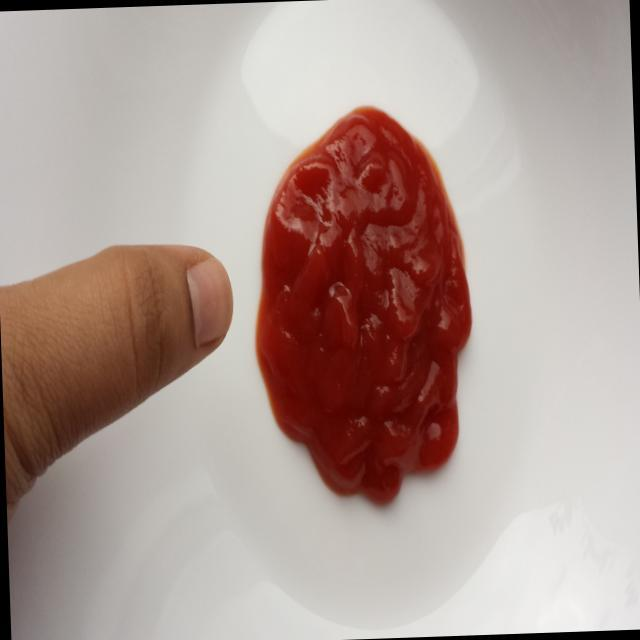Sauce: (253, 68, 486, 531)
